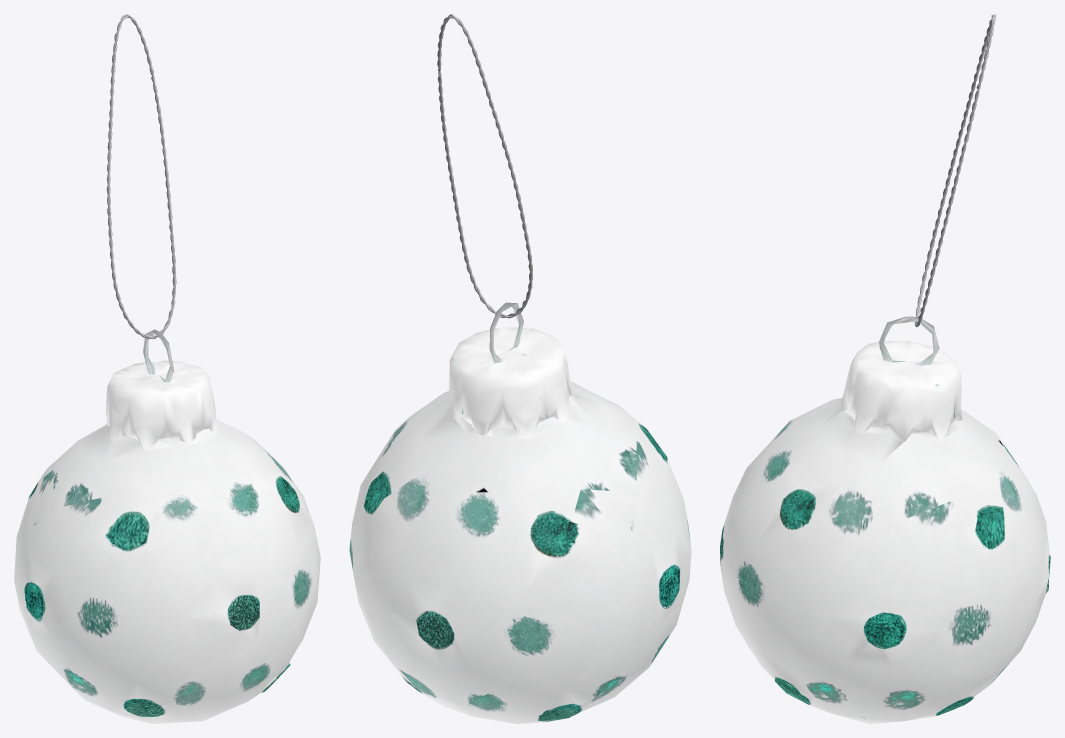
Rendered from Green_Dotted_orb.glb.
The picture shows the model from 3 angles, left to right: view 1: azimuth 30°, elevation 25°; view 2: azimuth 150°, elevation 25°; view 3: azimuth 270°, elevation 25°; orthographic projection. The views are drawn at different scales.
Visible parts, largest first — view 1: Mesh1.0, GN Instance; view 2: Mesh1.0, GN Instance; view 3: Mesh1.0, GN Instance.
Part boxes in pixels (x1,y1,x2,y2): Mesh1.0: (14,329,320,723); GN Instance: (106,14,176,338); Mesh1.0: (349,302,691,723); GN Instance: (437,14,532,318); Mesh1.0: (720,316,1050,723); GN Instance: (914,14,995,327).
Size of the model in its own units: 0.0397 by 0.093 by 0.0399.
2 materials, 1 textured.
